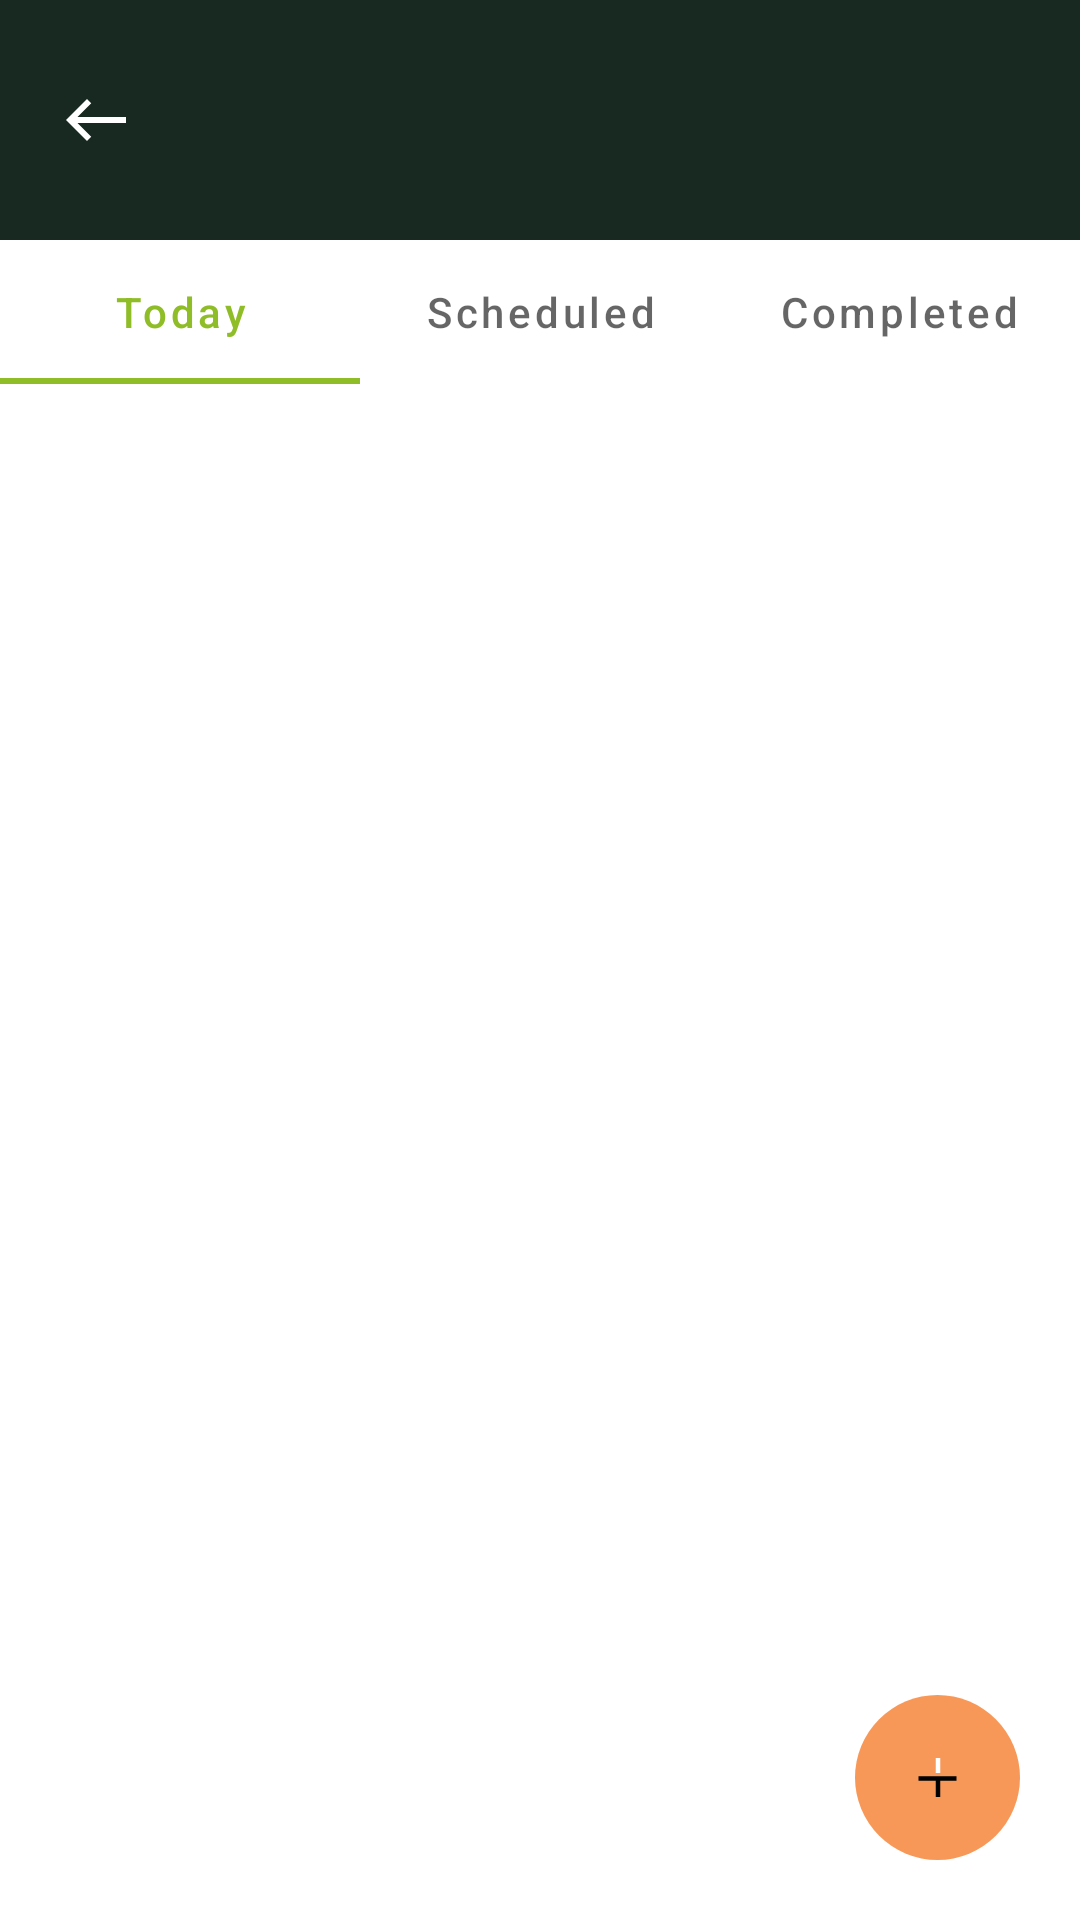

Screen size 1080w x 1920h. Icon name, then its box in pixels as (x1, y1, x2, y2):
addsalesrecord: (855, 1695, 1020, 1860)
arrow back: (66, 99, 126, 141)
